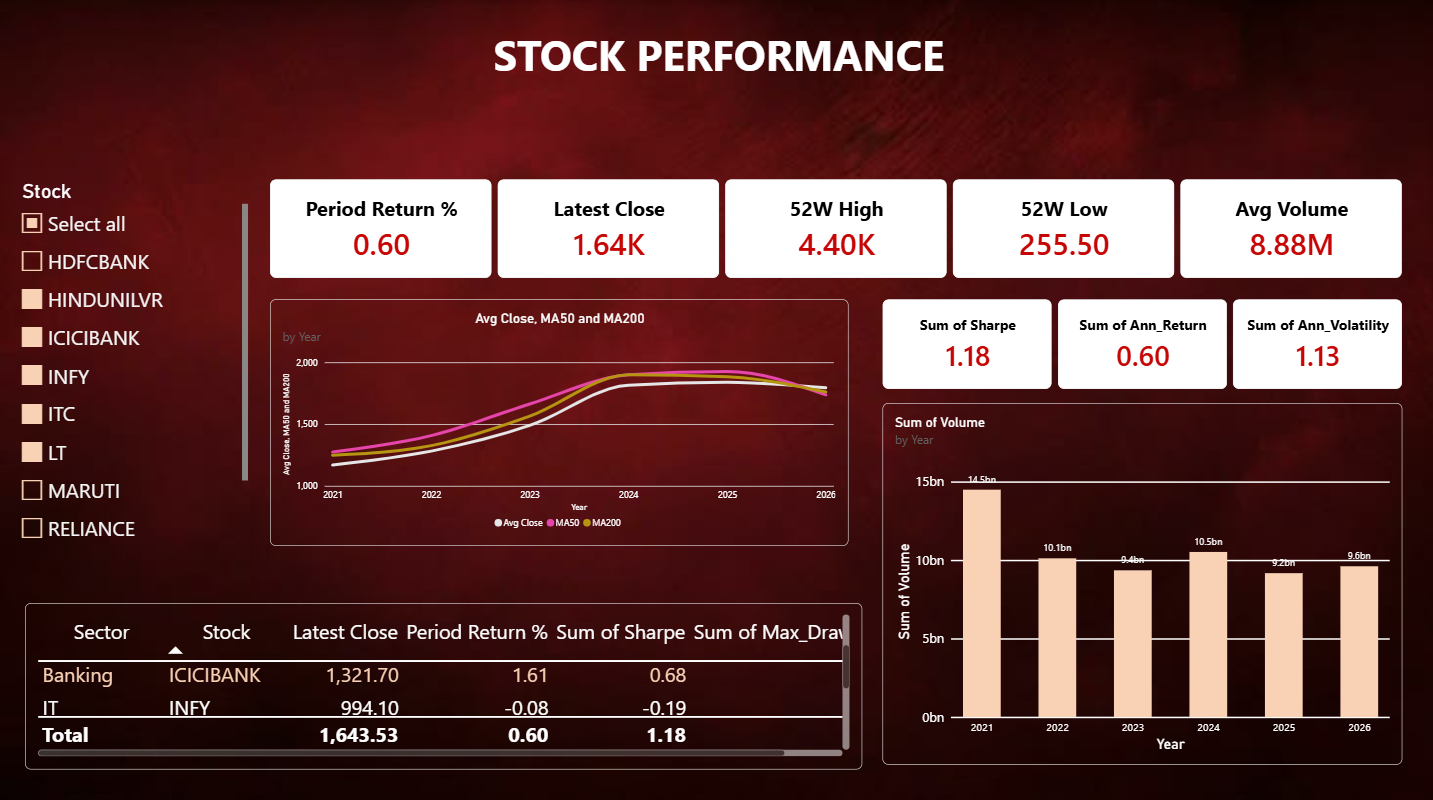

The dashboard page shown, as its layout file describes it:
{"tool":"powerbi","page":{"name":"stock performance","canvas":[1920,1080],"ordinal":1},"visuals":[{"type":"slicer","fields":{"Values":["Stocks.Stock"]},"box":[21.7,242.5,309.5,488.6],"z":0},{"type":"lineChart","fields":{"Category":["prices.Date.Variation.Date Hierarchy.Year","prices.Date.Variation.Date Hierarchy.Quarter","prices.Date.Variation.Date Hierarchy.Month","prices.Date.Variation.Date Hierarchy.Day"],"Y":["prices.Avg Close","prices.MA50","prices.MA200"]},"box":[360.1,401.7,772.7,329.4],"z":1000},{"type":"cardVisual","fields":{"Data":["Sum(risk_return.Sharpe)","Sum(risk_return.Ann_Return)","Sum(risk_return.Ann_Volatility)"]},"box":[1179.6,401.9,694.4,120.4],"z":2000},{"type":"columnChart","fields":{"Category":["prices.Date.Variation.Date Hierarchy.Year","prices.Date.Variation.Date Hierarchy.Quarter","prices.Date.Variation.Date Hierarchy.Month","prices.Date.Variation.Date Hierarchy.Day"],"Y":["Sum(prices.Volume)"]},"box":[1179.6,540.7,694.4,483.3],"z":3000},{"type":"cardVisual","fields":{"Data":["prices.Period Return %","prices.Latest Close","prices.52W High","prices.52W Low","prices.Avg Volume"]},"box":[360.1,242.5,1514.7,132.1],"z":4000},{"type":"tableEx","fields":{"Values":["Stocks.Sector","Stocks.Stock","prices.Latest Close","prices.Period Return %","Sum(risk_return.Sharpe)","Sum(risk_return.Max_Drawdown)"]},"box":[33.3,807.4,1118.5,222.2],"z":5000},{"type":"textbox","box":[0,0,1920.4,179.6],"z":6000}]}

Visuals, with their boxes in screenshot pixels (x1, y1, x2, y2), scaled from the page's 1920x1080 canvas onto the 1433x800 screenshot:
slicer - Stocks.Stock: box(16, 180, 247, 542)
lineChart - prices.Date.Variation.Date Hierarchy.Year x prices.Date.Variation.Date Hierarchy.Quarter: box(269, 298, 845, 542)
cardVisual - Sum(risk_return.Sharpe) x Sum(risk_return.Ann_Return): box(880, 298, 1399, 387)
columnChart - prices.Date.Variation.Date Hierarchy.Year x prices.Date.Variation.Date Hierarchy.Quarter: box(880, 401, 1399, 759)
cardVisual - prices.Period Return % x prices.Latest Close: box(269, 180, 1399, 277)
tableEx - Stocks.Sector x Stocks.Stock: box(25, 598, 860, 763)
textbox: box(0, 0, 1432, 133)
